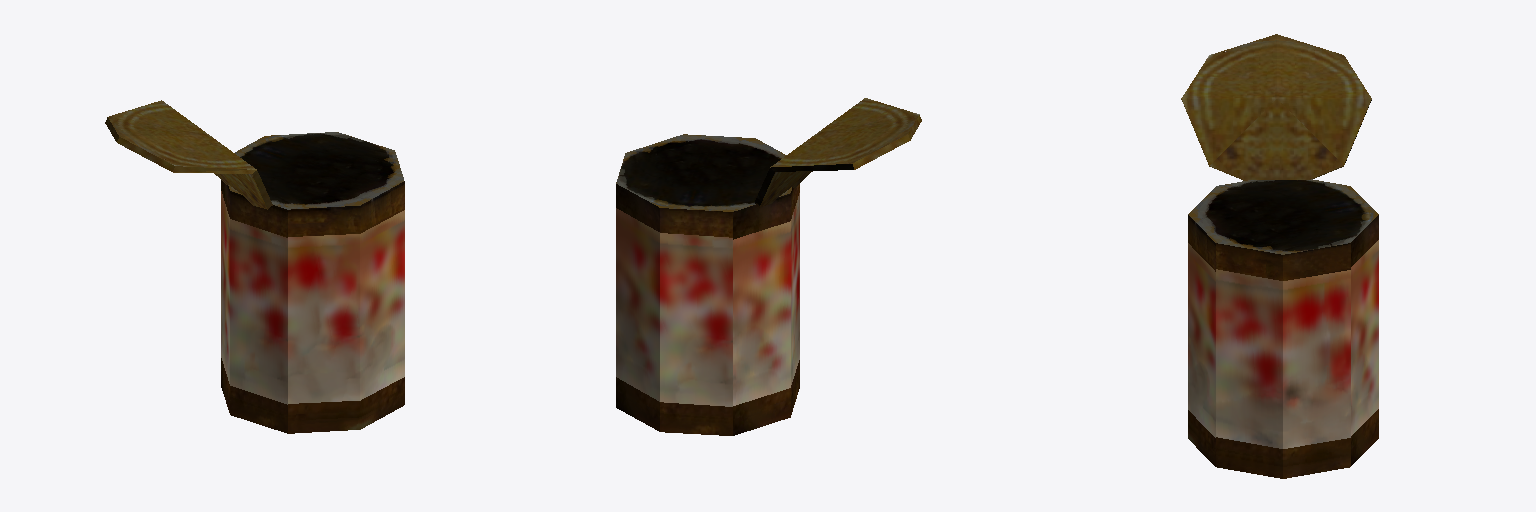
The picture shows the model from 3 angles: view 1: azimuth 30°, elevation 25°; view 2: azimuth 150°, elevation 25°; view 3: azimuth 270°, elevation 25°; orthographic projection.
Visible parts, largest first — view 1: Cylinder01; view 2: Cylinder01; view 3: Cylinder01.
Part boxes in pixels (left/top/right/bottom): Cylinder01: left=105, top=100, right=404, bottom=433; Cylinder01: left=616, top=98, right=921, bottom=435; Cylinder01: left=1181, top=34, right=1378, bottom=478.
Size of the model in its own units: 26.93 by 28.21 by 16.34.
Materials: 1 (1 with a texture image).